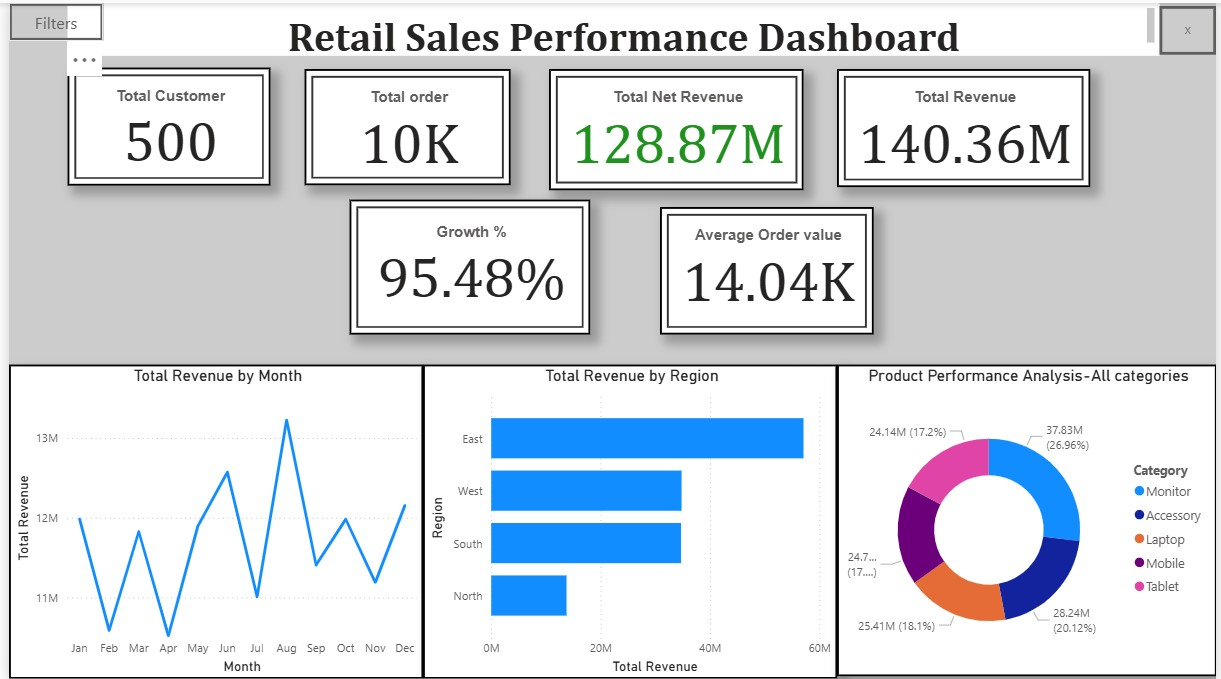

Layout of this report page (visuals, bound fields, positions):
{"tool":"powerbi","page":{"name":"Executive Summary","canvas":[1280,720],"ordinal":0},"visuals":[{"type":"cardVisual","fields":{"Data":["Fact_Sales.Total Revenue"]},"box":[878.3,70,268.3,125],"z":0},{"type":"cardVisual","fields":{"Data":["Fact_Sales.Total Net Revenue"]},"box":[573.3,70,270,128.3],"z":1000},{"type":"cardVisual","fields":{"Data":["Fact_Sales.Total order"]},"box":[313.3,70,218.3,123.3],"z":2000},{"type":"cardVisual","fields":{"Data":["Fact_Sales.Average Order value"]},"box":[690,216.7,226.7,135],"z":3000},{"type":"cardVisual","fields":{"Data":["Fact_Sales.Total Customer"]},"box":[61.7,68.3,215,125],"z":4000},{"type":"lineChart","fields":{"Y":["Fact_Sales.Total Revenue"],"Category":["Date Table.Month"]},"box":[0,383.3,439,334],"z":5000},{"type":"textbox","box":[62,0,1158,55.7],"z":6000},{"type":"clusteredBarChart","fields":{"Category":["Dim_Stores.Region"],"Y":["Fact_Sales.Total Revenue"]},"box":[439,383.3,439,334],"z":7000},{"type":"donutChart","fields":{"Category":["Dim_Products.Category"],"Y":["Fact_Sales.Total Revenue"]},"box":[878,383.3,402.4,330.8],"z":8000},{"type":"cardVisual","fields":{"Data":["Fact_Sales.Growth %"]},"box":[361.7,208.3,255,143.3],"z":12000},{"type":"actionButton","box":[1220,3.3,60,51.7],"z":14000},{"type":"actionButton","box":[0,0,100,40],"z":15000}]}

Visuals, with their boxes in screenshot pixels (x1, y1, x2, y2), scaled from the page's 1280x720 canvas onto the 1221x679 screenshot:
cardVisual - Fact_Sales.Total Revenue: left=838, top=66, right=1094, bottom=184
cardVisual - Fact_Sales.Total Net Revenue: left=547, top=66, right=804, bottom=187
cardVisual - Fact_Sales.Total order: left=299, top=66, right=507, bottom=182
cardVisual - Fact_Sales.Average Order value: left=658, top=204, right=874, bottom=332
cardVisual - Fact_Sales.Total Customer: left=59, top=64, right=264, bottom=182
lineChart - Fact_Sales.Total Revenue x Date Table.Month: left=0, top=361, right=419, bottom=676
textbox: left=59, top=0, right=1164, bottom=53
clusteredBarChart - Dim_Stores.Region x Fact_Sales.Total Revenue: left=419, top=361, right=838, bottom=676
donutChart - Dim_Products.Category x Fact_Sales.Total Revenue: left=838, top=361, right=1220, bottom=673
cardVisual - Fact_Sales.Growth %: left=345, top=196, right=588, bottom=332
actionButton: left=1164, top=3, right=1220, bottom=52
actionButton: left=0, top=0, right=95, bottom=38
